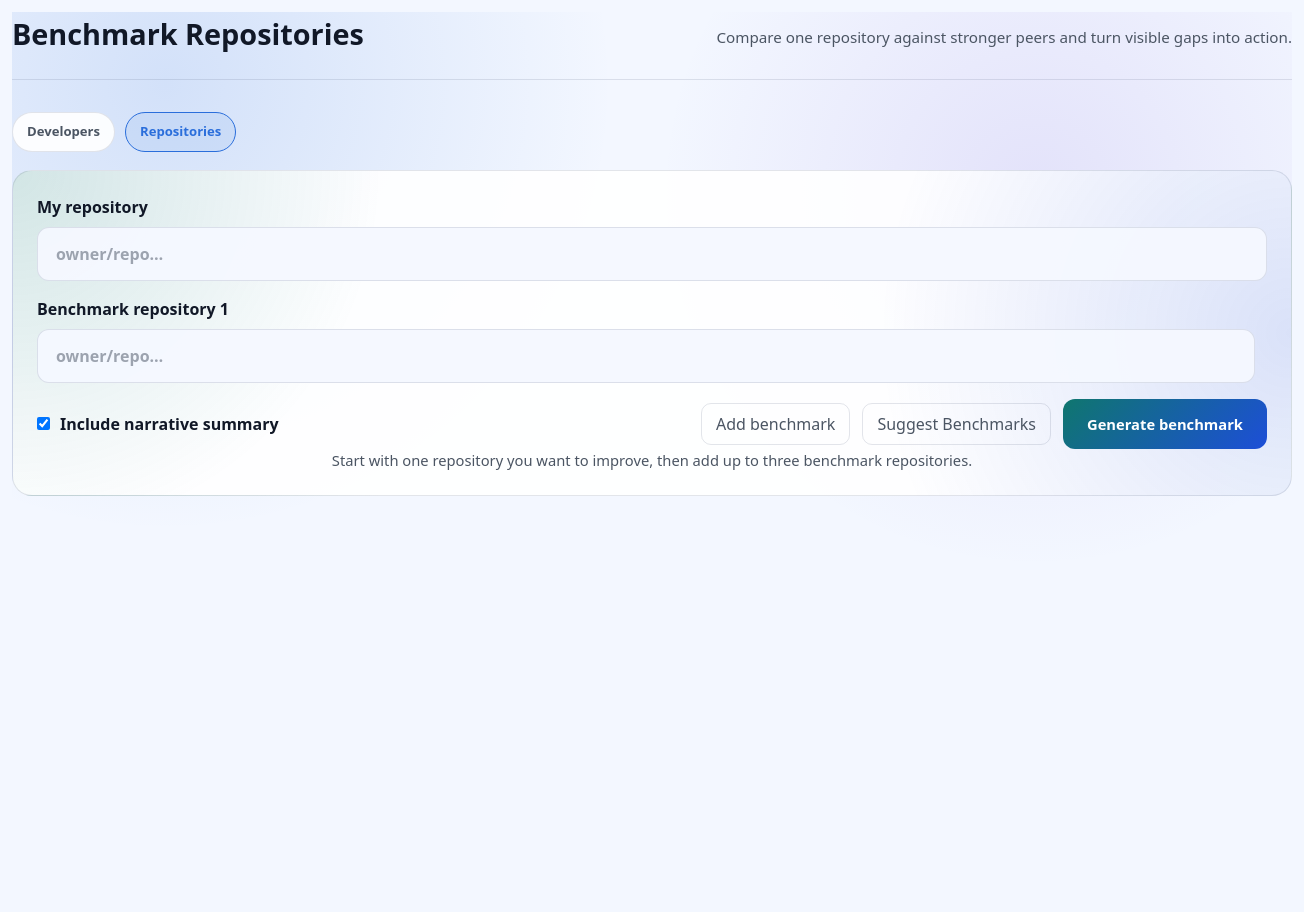
it: CompareRepos › input validation (Requirement 2.1) › shows error when mine repo has invalid format
Step 1. Type "not-valid-format" into the field with placeholder "owner/repo…" → {"x": 652, "y": 254}, box [37,227,1267,281]
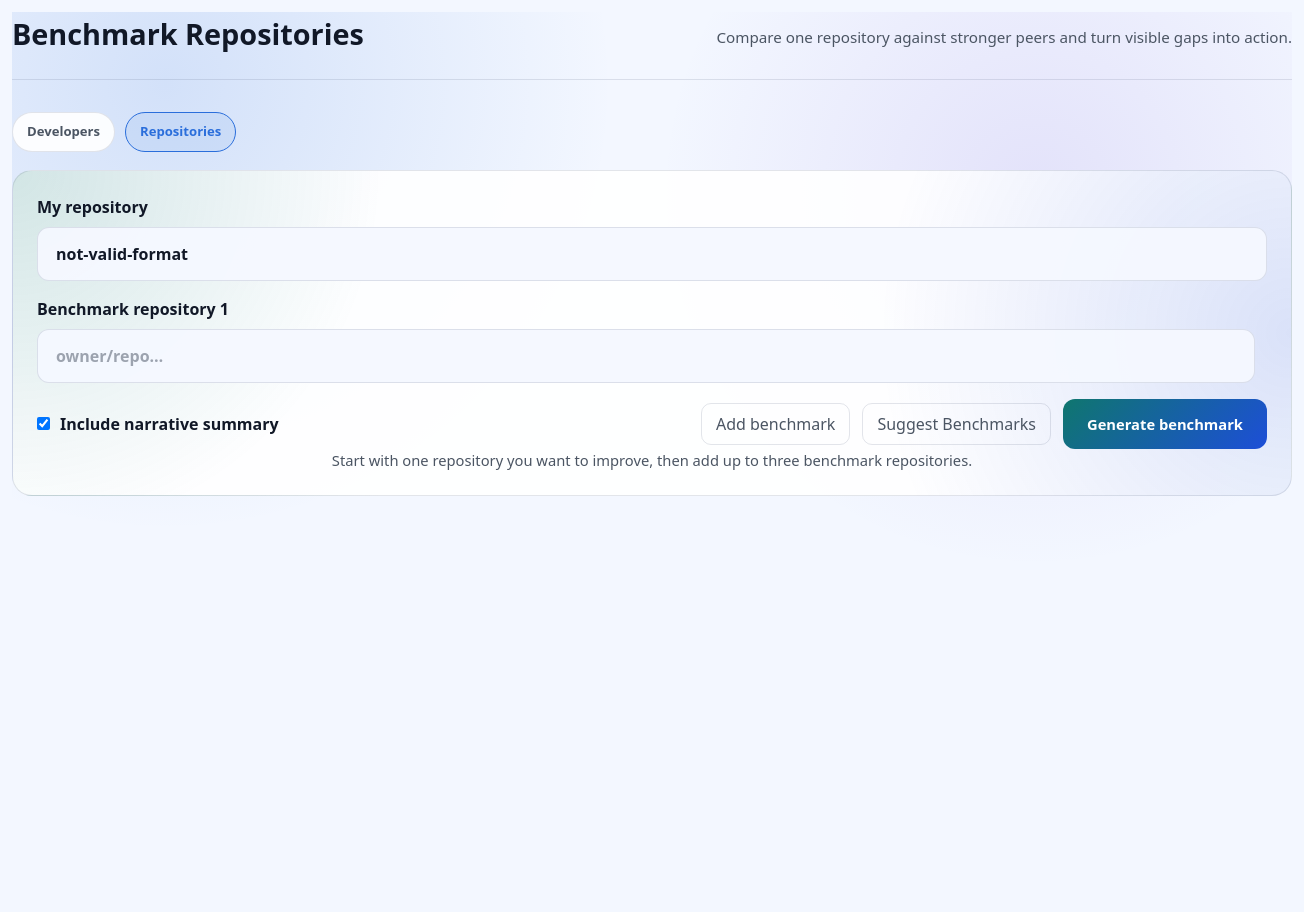
Step 2. Click the button "Generate benchmark" → {"x": 1165, "y": 424}, box [1063,399,1267,449]
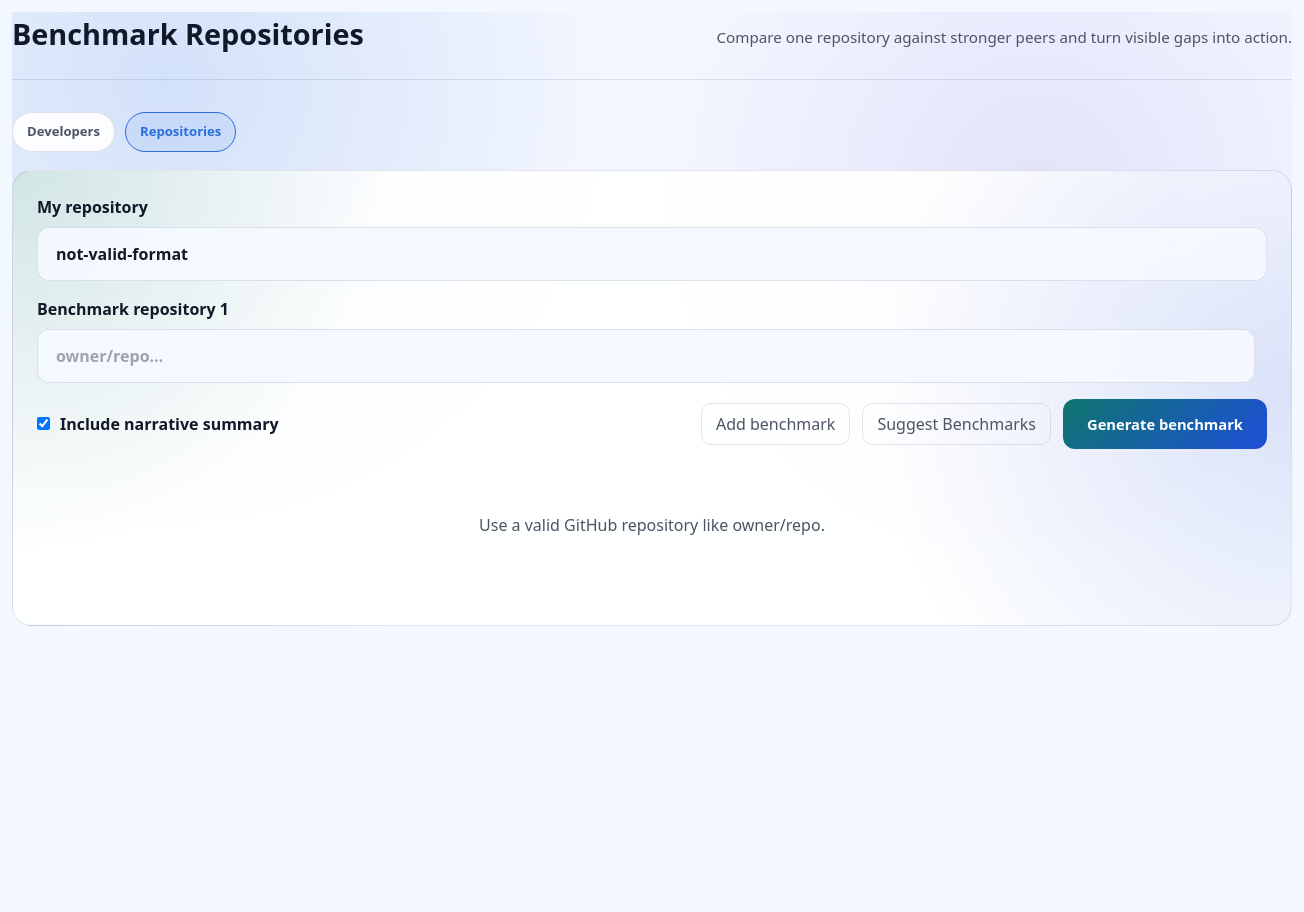
Result: the text "Use a valid GitHub repository like owner/repo." is shown at [479,514,825,536]
